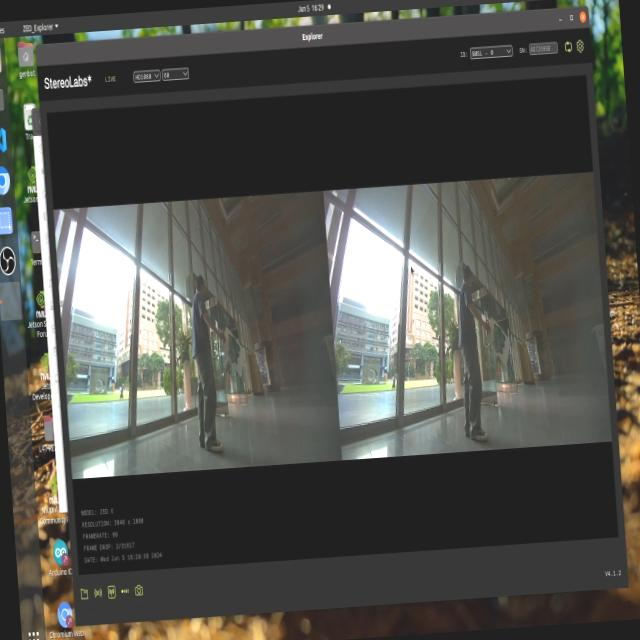green: (480, 317, 514, 357), (223, 336, 249, 377)
